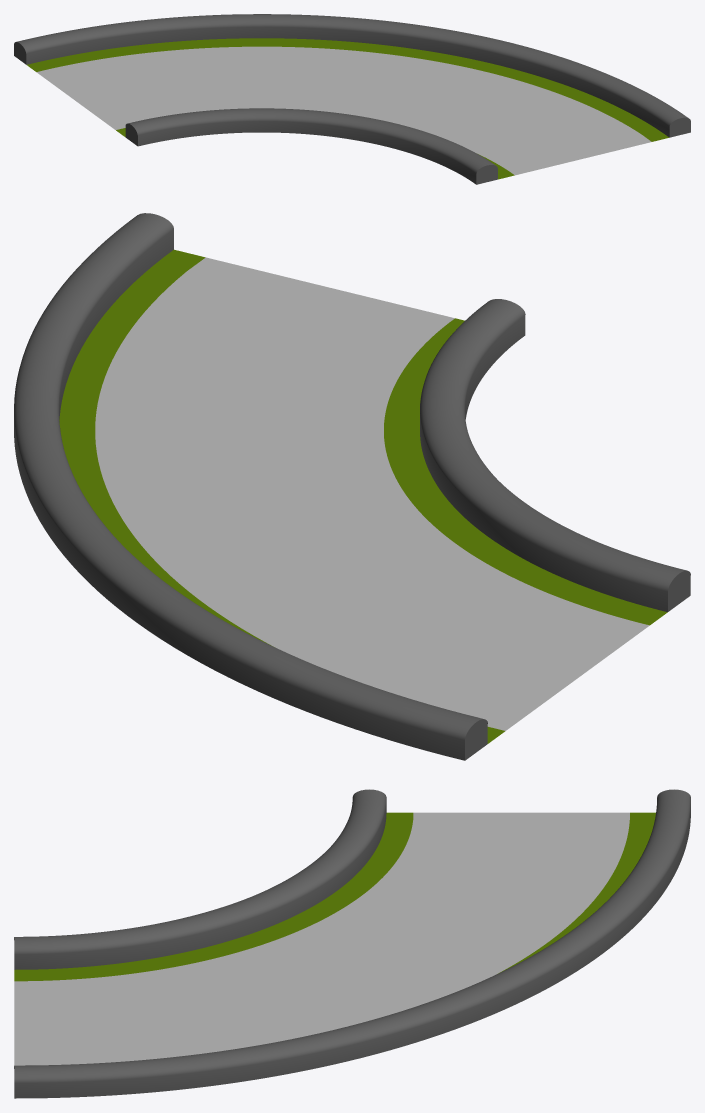
File: corner2x.gltf
The picture shows the model from 3 angles, top to bottom: view 1: azimuth 30°, elevation 25°; view 2: azimuth 150°, elevation 25°; view 3: azimuth 270°, elevation 25°; orthographic projection. The views are drawn at different scales.
Visible parts, largest first — view 1: $ColladaAutoName$_0; view 2: $ColladaAutoName$_0; view 3: $ColladaAutoName$_0.
Part boxes in pixels (x1,y1,x2,y2): $ColladaAutoName$_0: [14, 14, 690, 184]; $ColladaAutoName$_0: [14, 213, 690, 760]; $ColladaAutoName$_0: [14, 789, 690, 1098].
Size of the model in its own units: 2 by 0.075 by 2.
